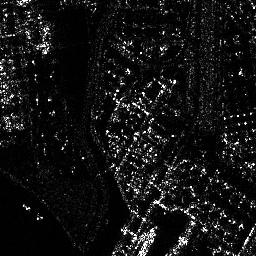ship: (137, 226, 156, 256)
